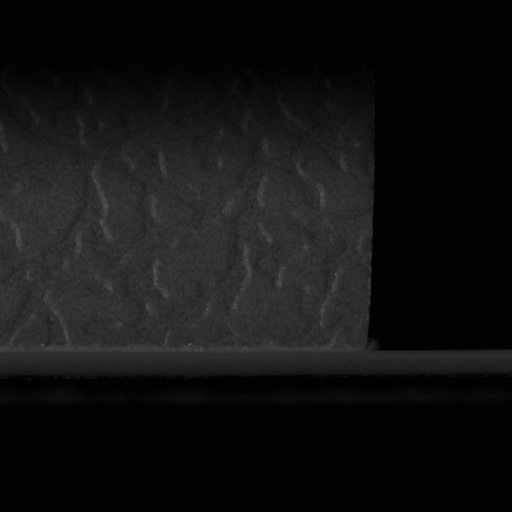changdai: (362, 346, 507, 378)
